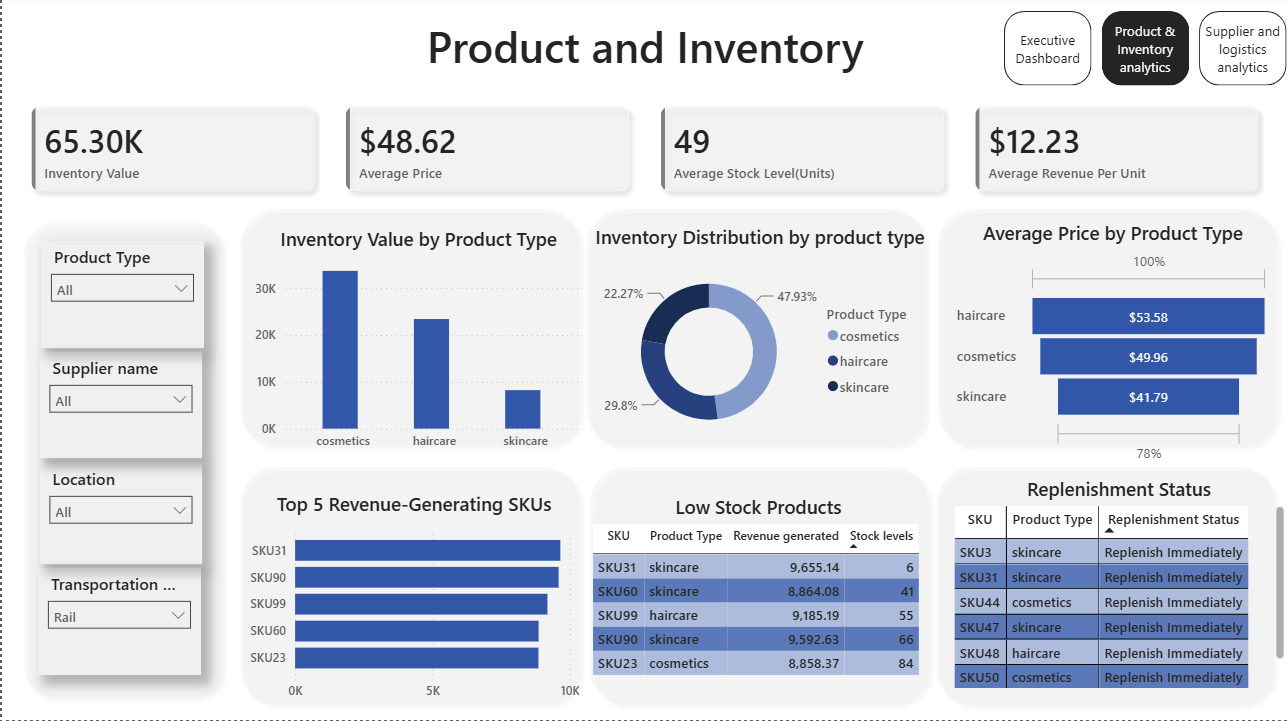

The dashboard page shown, as its layout file describes it:
{"tool":"powerbi","page":{"name":"Product & Inventory analytics","canvas":[1280,720],"ordinal":1},"visuals":[{"type":"shape","box":[228.6,203.4,355,254],"z":0},{"type":"clusteredColumnChart","title":"Inventory Value by Product Type","fields":{"Category":["supply_chain_data.Product Type"],"Y":["Measures (3).inventory"]},"box":[246.8,228.6,336.2,231.7],"z":1000},{"type":"shape","box":[572.4,203.4,355,254],"z":2000},{"type":"shape","box":[922.2,203.4,355,254],"z":3000},{"type":"funnel","fields":{"Category":["supply_chain_data.Product Type"],"Y":["Measures (3).Average Price"]},"box":[944.9,222.6,321,246.8],"z":4000},{"type":"shape","box":[228.6,459.3,355,254],"z":5000},{"type":"barChart","title":"Top 5 Revenue-Generating SKUs","fields":{"Category":["supply_chain_data.SKU"],"Y":["Sum(supply_chain_data.Revenue generated)"]},"box":[240.8,492.1,339.2,216.5],"z":6000},{"type":"shape","box":[575.4,459.3,355,254],"z":7000},{"type":"shape","box":[920.6,458.8,354.3,254.4],"z":8000},{"type":"tableEx","title":"Low Stock Products","fields":{"Values":["supply_chain_data.SKU","supply_chain_data.Product Type","Sum(supply_chain_data.Revenue generated)","Sum(supply_chain_data.Stock levels)"]},"box":[581.5,495.1,340.7,215],"z":9000},{"type":"tableEx","title":"Replenishment Status","fields":{"Values":["supply_chain_data.SKU","supply_chain_data.Product Type","supply_chain_data.Replenishment Status"]},"box":[940.8,477,339.2,215],"z":10000},{"type":"cardVisual","fields":{"Data":["Measures (3).inventory","Measures (3).Average Price","Measures (3).Average Stock Level","Measures (3).Revenue Per Unit"]},"box":[0,80.3,1279.5,142.3],"z":11000},{"type":"shape","box":[13.6,216.5,215,490.6],"z":12000},{"type":"donutChart","title":"Inventory Distribution by product type","fields":{"Category":["supply_chain_data.Product Type"],"Y":["Measures (3).Average Stock Level"]},"box":[579.9,227.1,346.8,228.6],"z":13000},{"type":"slicer","fields":{"Values":["supply_chain_data.Product Type"]},"box":[39.4,242.8,162,107.5],"z":14000},{"type":"slicer","fields":{"Values":["supply_chain_data.Location"]},"box":[37.9,463.3,162,101.5],"z":15000},{"type":"slicer","fields":{"Values":["supply_chain_data.Supplier name"]},"box":[37.9,353.8,162,106],"z":16000},{"type":"slicer","fields":{"Values":["supply_chain_data.Transportation modes"]},"box":[36.3,568.3,162,107.5],"z":17000},{"type":"textbox","box":[0,15.1,1279.5,74.2],"z":18000},{"type":"pageNavigator","box":[996.3,15.1,283.2,74.2],"z":19000}]}

Visuals, with their boxes in screenshot pixels (x1, y1, x2, y2), scaled from the page's 1280x720 canvas onto the 1288x721 screenshot:
shape: select_region(230, 204, 587, 458)
"Inventory Value by Product Type" clusteredColumnChart: select_region(248, 229, 587, 461)
shape: select_region(576, 204, 933, 458)
shape: select_region(928, 204, 1285, 458)
funnel - supply_chain_data.Product Type x Measures (3).Average Price: select_region(951, 223, 1274, 470)
shape: select_region(230, 460, 587, 714)
"Top 5 Revenue-Generating SKUs" barChart: select_region(242, 493, 584, 710)
shape: select_region(579, 460, 936, 714)
shape: select_region(926, 459, 1283, 714)
"Low Stock Products" tableEx: select_region(585, 496, 928, 711)
"Replenishment Status" tableEx: select_region(947, 478, 1287, 693)
cardVisual - Measures (3).inventory x Measures (3).Average Price: select_region(0, 80, 1287, 223)
shape: select_region(14, 217, 230, 708)
"Inventory Distribution by product type" donutChart: select_region(584, 227, 932, 456)
slicer - supply_chain_data.Product Type: select_region(40, 243, 203, 351)
slicer - supply_chain_data.Location: select_region(38, 464, 201, 566)
slicer - supply_chain_data.Supplier name: select_region(38, 354, 201, 460)
slicer - supply_chain_data.Transportation modes: select_region(37, 569, 200, 677)
textbox: select_region(0, 15, 1287, 89)
pageNavigator: select_region(1003, 15, 1287, 89)
